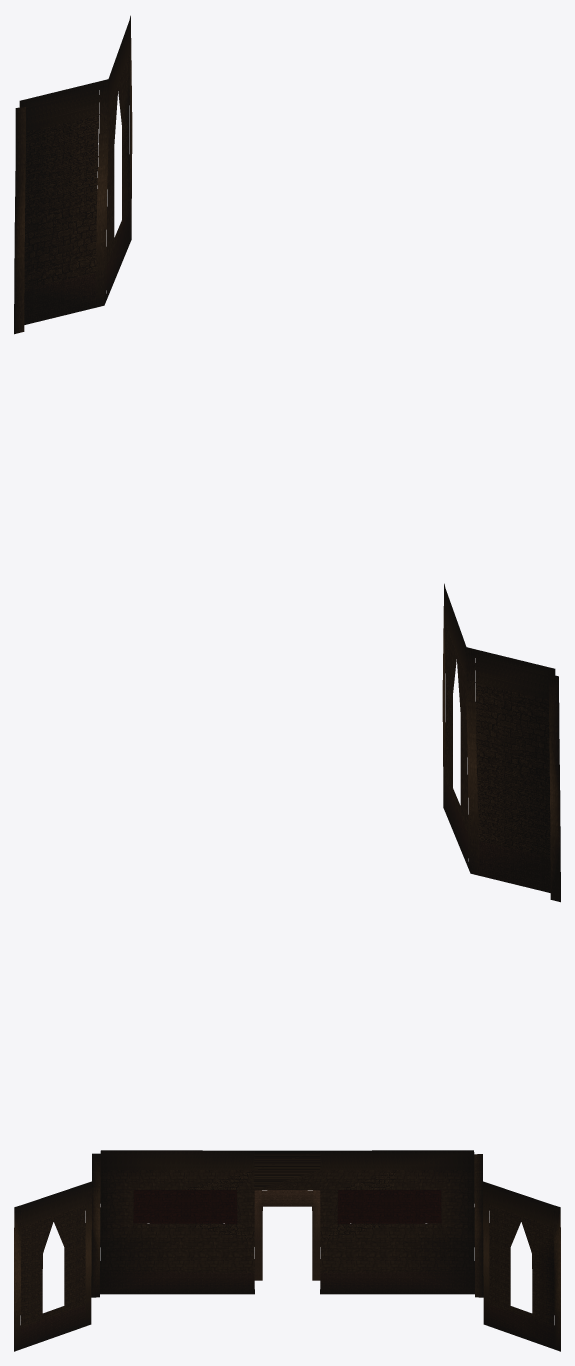
File: test-walls_back-nomat.glb
3 renders of one model, top to bottom at view 1: azimuth 30°, elevation 25°; view 2: azimuth 150°, elevation 25°; view 3: azimuth 270°, elevation 25°, orthographic. The views are drawn at different scales.
Visible parts, largest first — view 1: room_back; view 2: room_back; view 3: room_back.
Boxes of the visible parts, x1=… form: room_back: x1=14, y1=15, x2=132, y2=334; room_back: x1=442, y1=583, x2=560, y2=902; room_back: x1=14, y1=1150, x2=560, y2=1351.
Bounding box in the file's own units: 73.73 × 85.96 × 295.
1 material, 1 textured.
